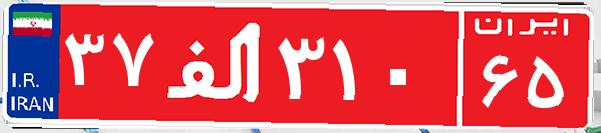0: (385, 28, 445, 110)
1: (330, 28, 385, 110)
3: (273, 28, 330, 110), (57, 26, 110, 107)
5: (525, 38, 570, 115)
6: (475, 38, 525, 113)
7: (110, 28, 158, 105)
الف: (158, 15, 273, 115)
